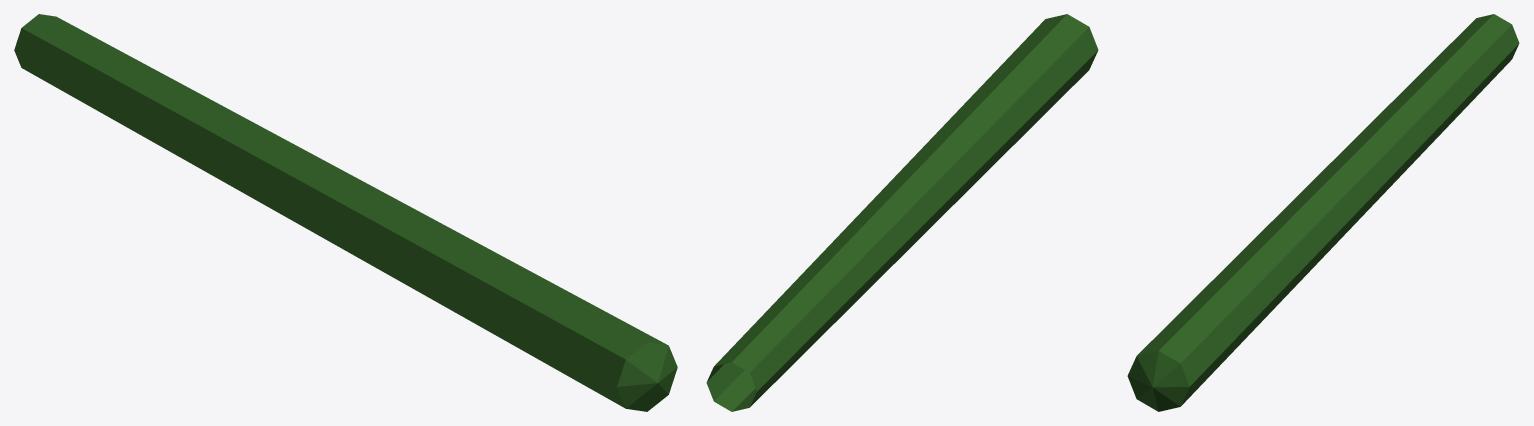
The model's file is cylinder.009_material.008_0_lev1.glb.
3 views of the same model, side by side, from view 1: azimuth 30°, elevation 25°; view 2: azimuth 150°, elevation 25°; view 3: azimuth 330°, elevation 25° (orthographic). The views are drawn at different scales.
Parts seen in each view (by area): view 1: cylinder.009_material.008_0_lev1; view 2: cylinder.009_material.008_0_lev1; view 3: cylinder.009_material.008_0_lev1.
Part boxes in pixels (box(x1,y1,x2,y2)): cylinder.009_material.008_0_lev1: box(14, 14, 677, 411); cylinder.009_material.008_0_lev1: box(706, 14, 1098, 411); cylinder.009_material.008_0_lev1: box(1127, 14, 1519, 411).
Size of the model in its own units: 1.62 by 0.6235 by 8.22.
